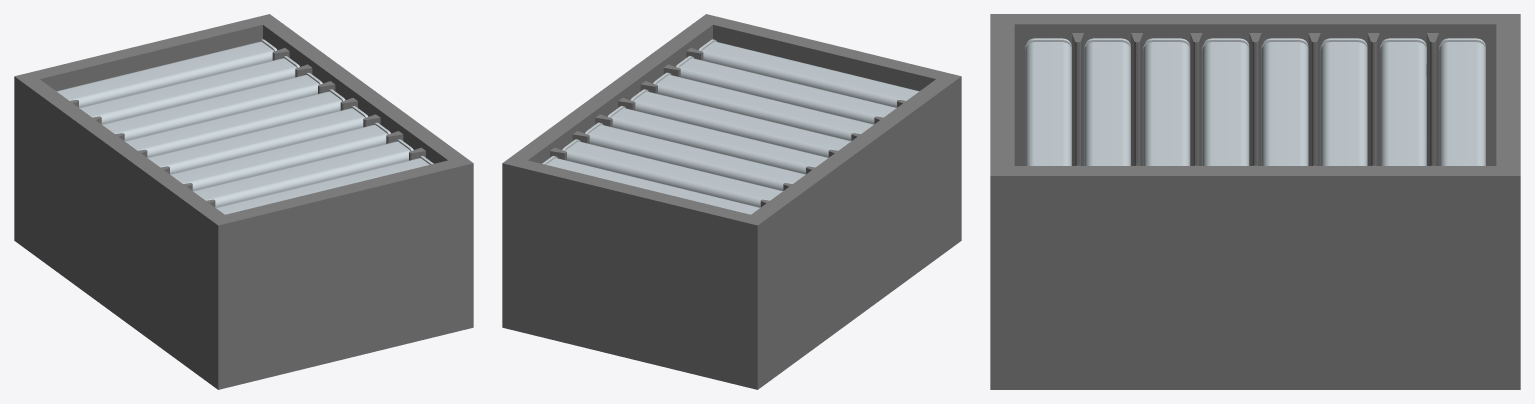
File: Cassette_Box_V1.fbx
3 views of the same model, side by side, from view 1: azimuth 30°, elevation 25°; view 2: azimuth 150°, elevation 25°; view 3: azimuth 270°, elevation 25° (orthographic). The views are drawn at different scales.
Visible parts, largest first — view 1: Box_V1, Box_V1_Cassette_7, Box_V1_Cassette_3, Box_V1_Cassette_4, Box_V1_Cassette_5, Box_V1_Cassette_8, Box_V1_Cassette_6, Box_V1_Cassette_2, Box_V1_Cassette_1; view 2: Box_V1, Box_V1_Cassette_2, Box_V1_Cassette_6, Box_V1_Cassette_5, Box_V1_Cassette_1, Box_V1_Cassette_4, Box_V1_Cassette_3, Box_V1_Cassette_7, Box_V1_Cassette_8; view 3: Box_V1, Box_V1_Cassette_3, Box_V1_Cassette_6, Box_V1_Cassette_4, Box_V1_Cassette_5, Box_V1_Cassette_1, Box_V1_Cassette_2, Box_V1_Cassette_7, Box_V1_Cassette_8.
Part boxes in pixels (x1,y1,x2,y2): Box_V1: [14, 14, 473, 389]; Box_V1_Cassette_7: [79, 56, 299, 124]; Box_V1_Cassette_3: [170, 122, 390, 190]; Box_V1_Cassette_4: [148, 106, 368, 174]; Box_V1_Cassette_5: [125, 89, 345, 157]; Box_V1_Cassette_8: [56, 39, 276, 107]; Box_V1_Cassette_6: [102, 72, 322, 140]; Box_V1_Cassette_2: [193, 139, 413, 207]; Box_V1_Cassette_1: [215, 156, 433, 214]; Box_V1: [502, 14, 961, 389]; Box_V1_Cassette_2: [676, 56, 896, 124]; Box_V1_Cassette_6: [585, 122, 805, 190]; Box_V1_Cassette_5: [607, 106, 827, 174]; Box_V1_Cassette_1: [699, 39, 919, 107]; Box_V1_Cassette_4: [630, 89, 850, 157]; Box_V1_Cassette_3: [653, 72, 873, 140]; Box_V1_Cassette_7: [562, 139, 782, 207]; Box_V1_Cassette_8: [542, 156, 760, 214]; Box_V1: [990, 14, 1520, 389]; Box_V1_Cassette_3: [1143, 38, 1190, 165]; Box_V1_Cassette_6: [1320, 38, 1367, 165]; Box_V1_Cassette_4: [1202, 38, 1249, 165]; Box_V1_Cassette_5: [1261, 38, 1308, 165]; Box_V1_Cassette_1: [1025, 38, 1071, 165]; Box_V1_Cassette_2: [1084, 38, 1130, 165]; Box_V1_Cassette_7: [1380, 38, 1426, 165]; Box_V1_Cassette_8: [1439, 38, 1485, 165].
Size of the model in its own units: 13.05 by 8.03 by 18.04.
